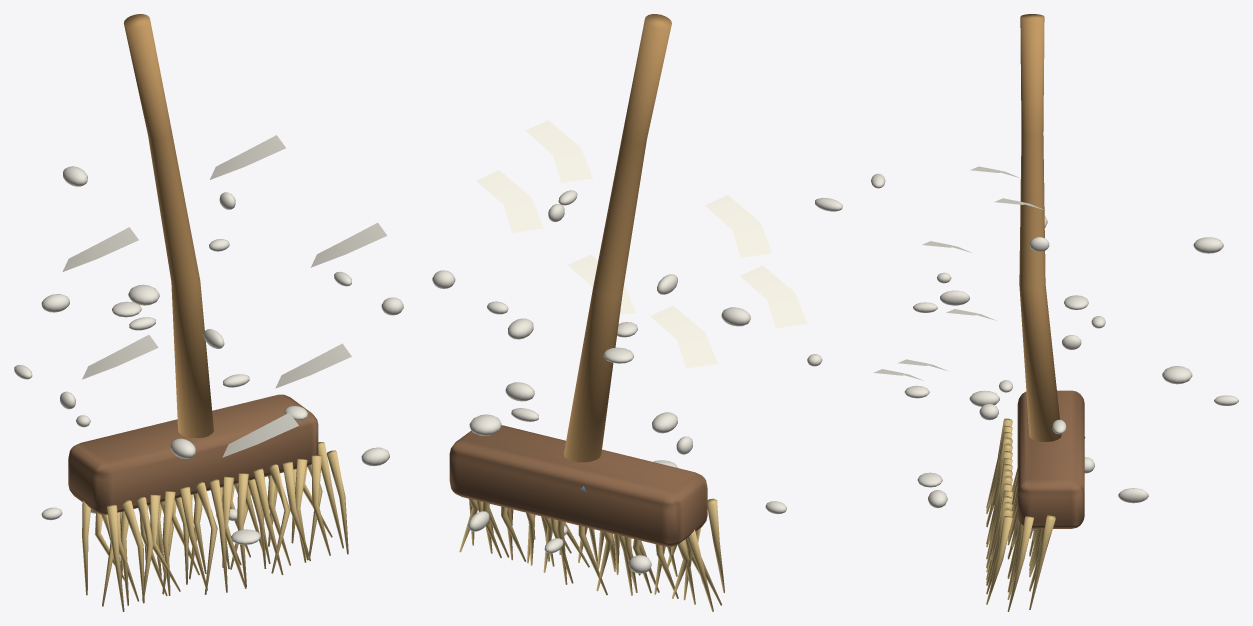
File: S03_Antigravity_School_Broom.glb
3 views of the same model, side by side, from view 1: azimuth 30°, elevation 25°; view 2: azimuth 150°, elevation 25°; view 3: azimuth 270°, elevation 25° (orthographic). The views are drawn at different scales.
Parts seen in each view (by area): view 1: S03_BROOM_ACTOR | Hand-tied straw broom natural fibers, S03 true dense broom hardwood sweeping crossbar, S03 real long curved broom wooden handle, S03_REVERSED_DUST_ACTOR | Flying classroom chalk scrap, S03_REVERSED_DUST_ACTOR | Suspended real chalk dust grey-bei; view 2: S03 true dense broom hardwood sweeping crossbar, S03 real long curved broom wooden handle, S03_REVERSED_DUST_ACTOR | Flying classroom chalk scrap, S03_BROOM_ACTOR | Hand-tied straw broom natural fibers, S03_REVERSED_DUST_ACTOR | Suspended real chalk dust grey-bei; view 3: S03 real long curved broom wooden handle, S03 true dense broom hardwood sweeping crossbar, S03_BROOM_ACTOR | Hand-tied straw broom natural fibers, S03_REVERSED_DUST_ACTOR | Suspended real chalk dust grey-bei, S03_REVERSED_DUST_ACTOR | Flying classroom chalk scrap.
Part boxes in pixels (x1,y1,x2,y2): S03_BROOM_ACTOR | Hand-tied straw broom natural fibers: (82,442,348,611); S03 true dense broom hardwood sweeping crossbar: (68,394,318,514); S03 real long curved broom wooden handle: (124,14,213,438); S03_REVERSED_DUST_ACTOR | Flying classroom chalk scrap: (62,135,387,457); S03_REVERSED_DUST_ACTOR | Suspended real chalk dust grey-bei: (14,166,403,544); S03 true dense broom hardwood sweeping crossbar: (449,425,707,546); S03 real long curved broom wooden handle: (564,14,671,462); S03_REVERSED_DUST_ACTOR | Flying classroom chalk scrap: (476,120,807,368); S03_BROOM_ACTOR | Hand-tied straw broom natural fibers: (459,498,724,611); S03_REVERSED_DUST_ACTOR | Suspended real chalk dust grey-bei: (432,190,842,573); S03 real long curved broom wooden handle: (1019,14,1061,441); S03 true dense broom hardwood sweeping crossbar: (1017,390,1084,528); S03_BROOM_ACTOR | Hand-tied straw broom natural fibers: (986,418,1055,611); S03_REVERSED_DUST_ACTOR | Suspended real chalk dust grey-bei: (871,173,1238,530); S03_REVERSED_DUST_ACTOR | Flying classroom chalk scrap: (873,166,1043,380).
Size of the model in its own units: 1.36 by 2.12 by 1.37.
